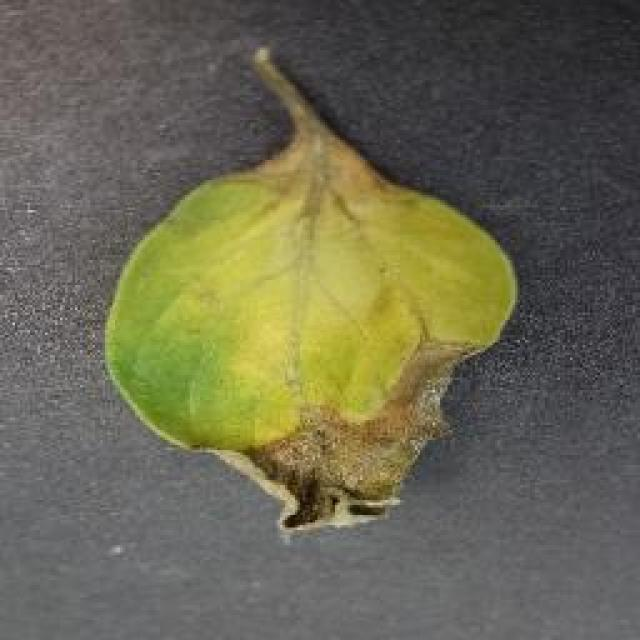Tomato Late Blight: (198, 340, 484, 560)
